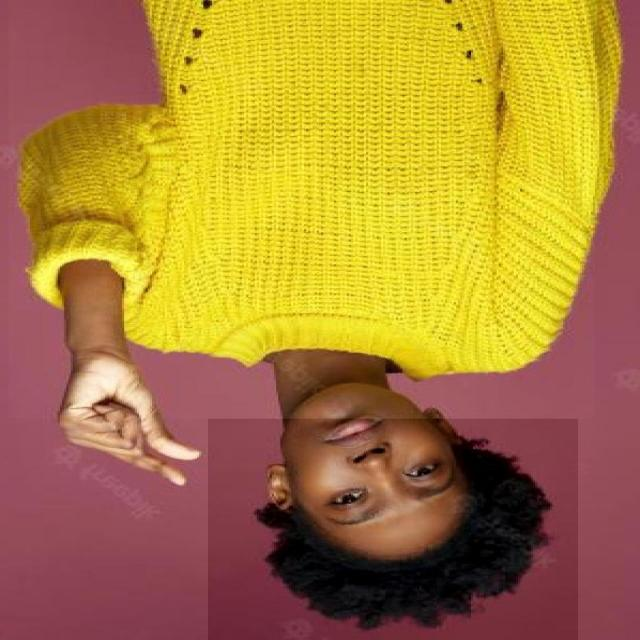Helmet: (9, 0, 595, 419), (208, 356, 578, 640)
